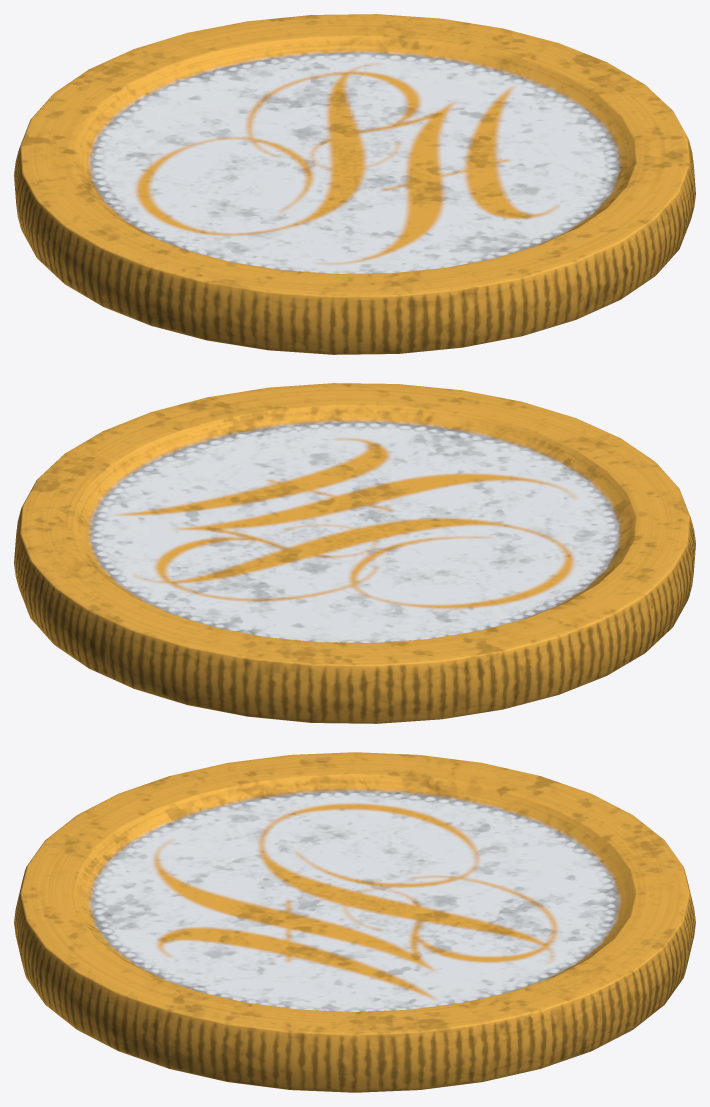
File: Moneda2_PH.gltf
The picture shows the model from 3 angles, top to bottom: view 1: azimuth 30°, elevation 25°; view 2: azimuth 150°, elevation 25°; view 3: azimuth 270°, elevation 25°; orthographic projection.
Parts seen in each view (by area): view 1: Moneda_low1; view 2: Moneda_low1; view 3: Moneda_low1.
Boxes of the visible parts, left/top/right/bottom form: Moneda_low1: left=14, top=14, right=695, bottom=354; Moneda_low1: left=14, top=383, right=695, bottom=723; Moneda_low1: left=14, top=752, right=695, bottom=1092.
Bounding box in the file's own units: 0.989 × 0.0957 × 0.989.
1 material, 1 textured.
